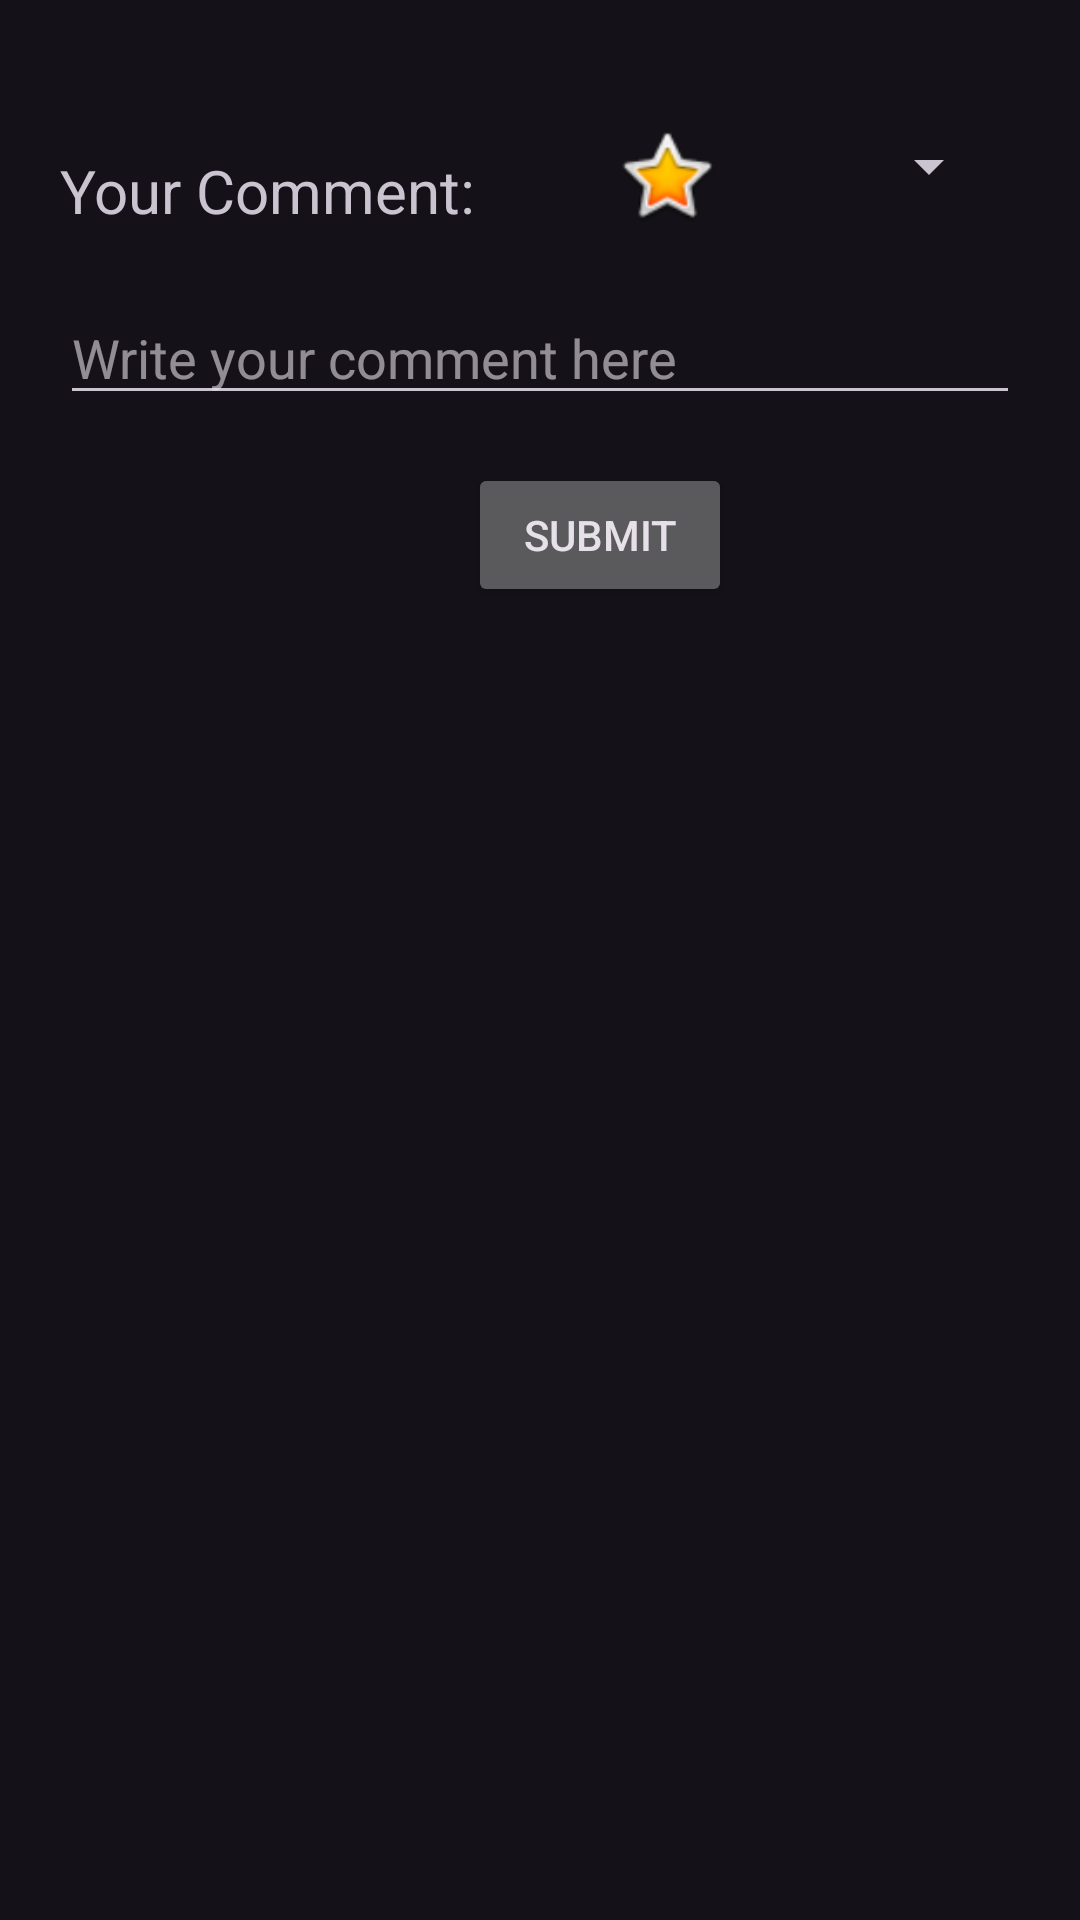

Screen size 1080×1920. Icon name, then its box in pixels as (x1, y1, x2, y2):
star on: (623, 133, 712, 218)
